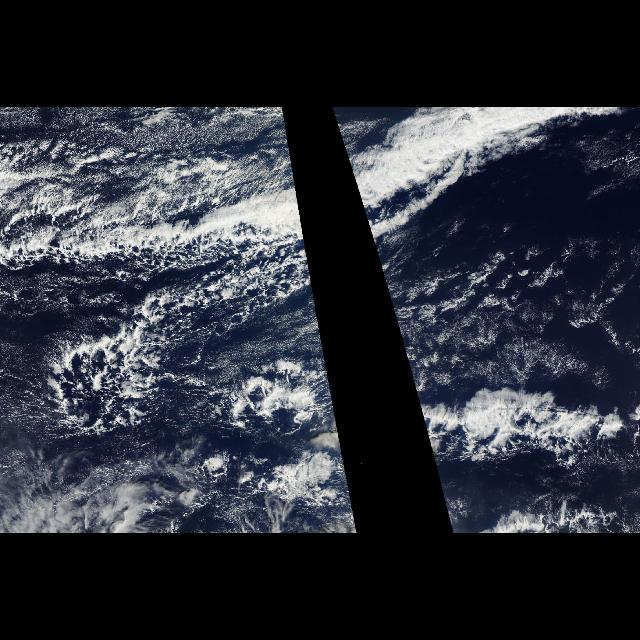Fish: (0, 148, 316, 458), (411, 375, 631, 471), (343, 148, 392, 308)
Gravel: (4, 242, 336, 440), (374, 246, 620, 414)
